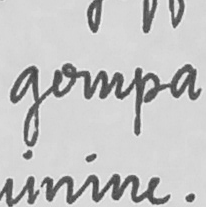a: (167, 63, 203, 104)
g: (8, 63, 43, 149)
m: (82, 67, 126, 102)
o: (49, 61, 78, 100)
p: (130, 64, 162, 137)
